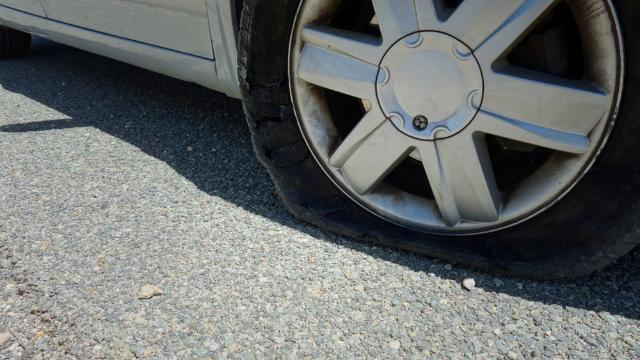tire flat: (238, 0, 640, 282)
